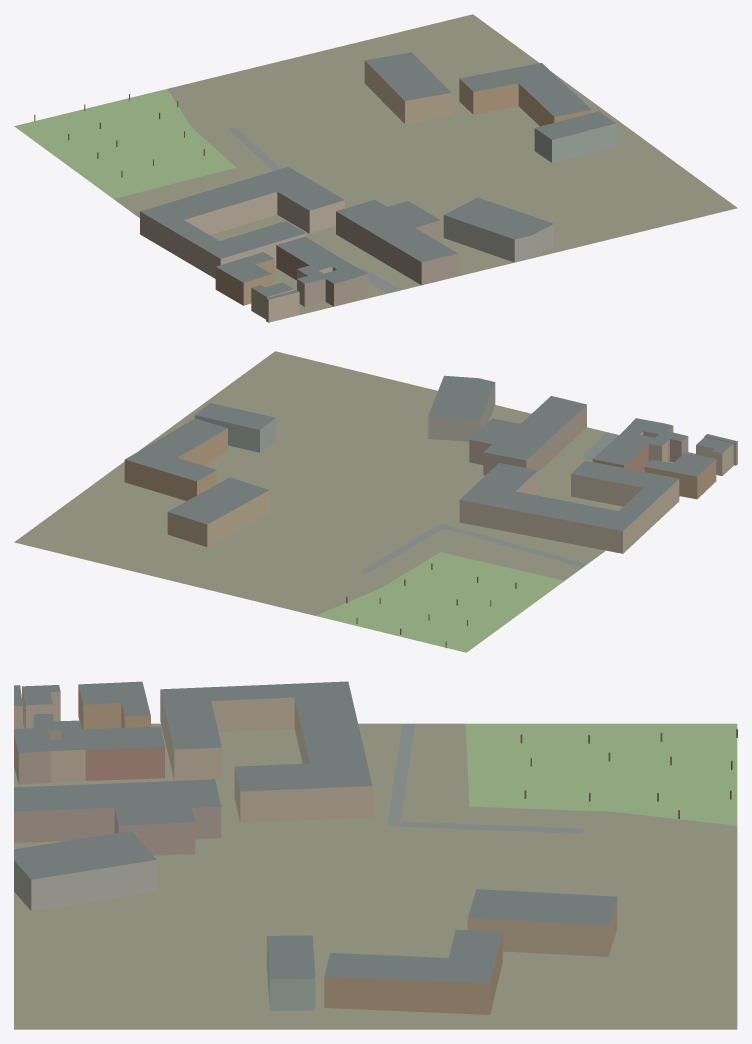
File: sector-1_0.glb
The picture shows the model from 3 angles, top to bottom: view 1: azimuth 30°, elevation 25°; view 2: azimuth 150°, elevation 25°; view 3: azimuth 270°, elevation 25°; orthographic projection. The views are drawn at different scales.
Parts seen in each view (by area): view 1: 1:0-ground, 1:0-facade, 1:0-roof, 1:0-park, 1:0-road; view 2: 1:0-ground, 1:0-roof, 1:0-facade, 1:0-park, 1:0-road; view 3: 1:0-ground, 1:0-roof, 1:0-facade, 1:0-park, 1:0-road.
Part boxes in pixels (x1=…): 1:0-ground: x1=114, y1=14, x2=737, y2=314; 1:0-facade: x1=140, y1=61, x2=616, y2=322; 1:0-roof: x1=140, y1=52, x2=615, y2=299; 1:0-park: x1=14, y1=89, x2=235, y2=198; 1:0-road: x1=132, y1=127, x2=401, y2=293; 1:0-ground: x1=14, y1=351, x2=695, y2=615; 1:0-roof: x1=125, y1=375, x2=737, y2=530; 1:0-facade: x1=124, y1=382, x2=737, y2=553; 1:0-park: x1=315, y1=552, x2=563, y2=652; 1:0-road: x1=361, y1=432, x2=618, y2=573; 1:0-ground: x1=14, y1=723, x2=737, y2=1029; 1:0-roof: x1=14, y1=681, x2=617, y2=983; 1:0-facade: x1=14, y1=685, x2=617, y2=1014; 1:0-park: x1=465, y1=723, x2=737, y2=825; 1:0-road: x1=387, y1=723, x2=583, y2=833.
Bounding box in the file's own units: 207 × 9.6 × 200.
